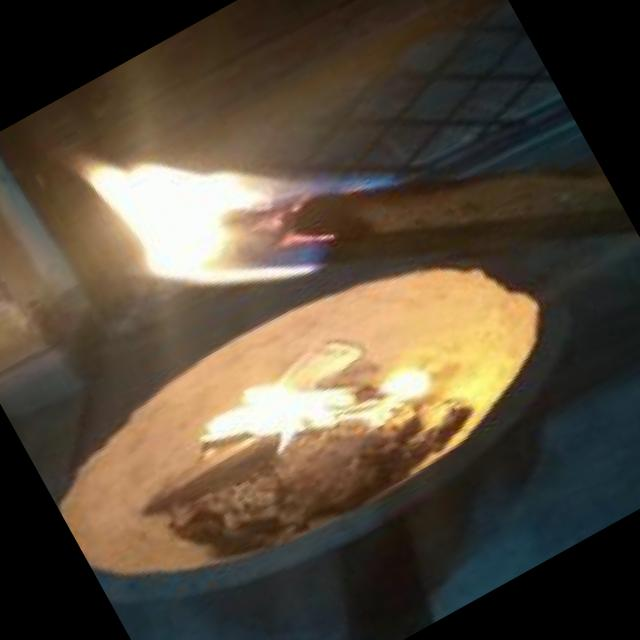fire: (18, 0, 415, 372), (206, 315, 433, 499)
